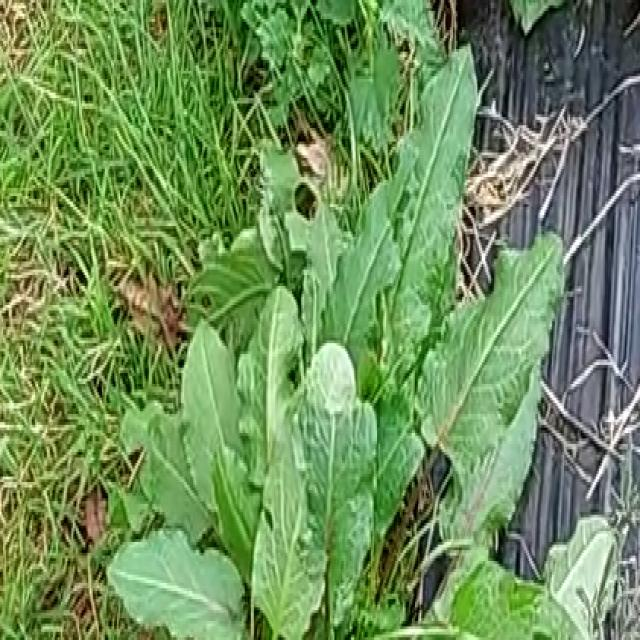organic waste: (144, 49, 572, 640)
